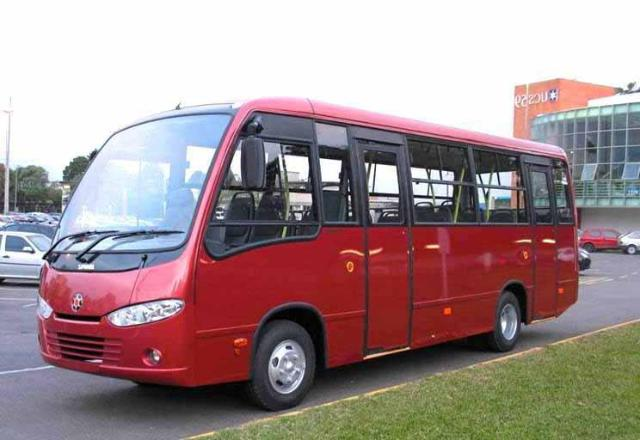bus: (33, 48, 584, 415)
